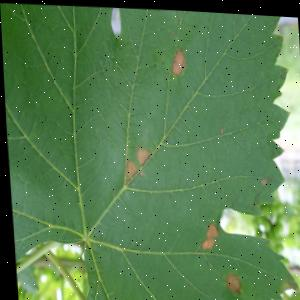Folha: (0, 0, 300, 300)
Fungo: (120, 142, 151, 186), (197, 220, 218, 249), (169, 45, 186, 74), (222, 270, 239, 294), (133, 143, 149, 166), (123, 158, 136, 179), (283, 272, 296, 290), (257, 173, 270, 184), (285, 278, 294, 289), (138, 167, 144, 175), (258, 175, 264, 183), (218, 123, 222, 133), (170, 27, 174, 34), (227, 298, 235, 300)
